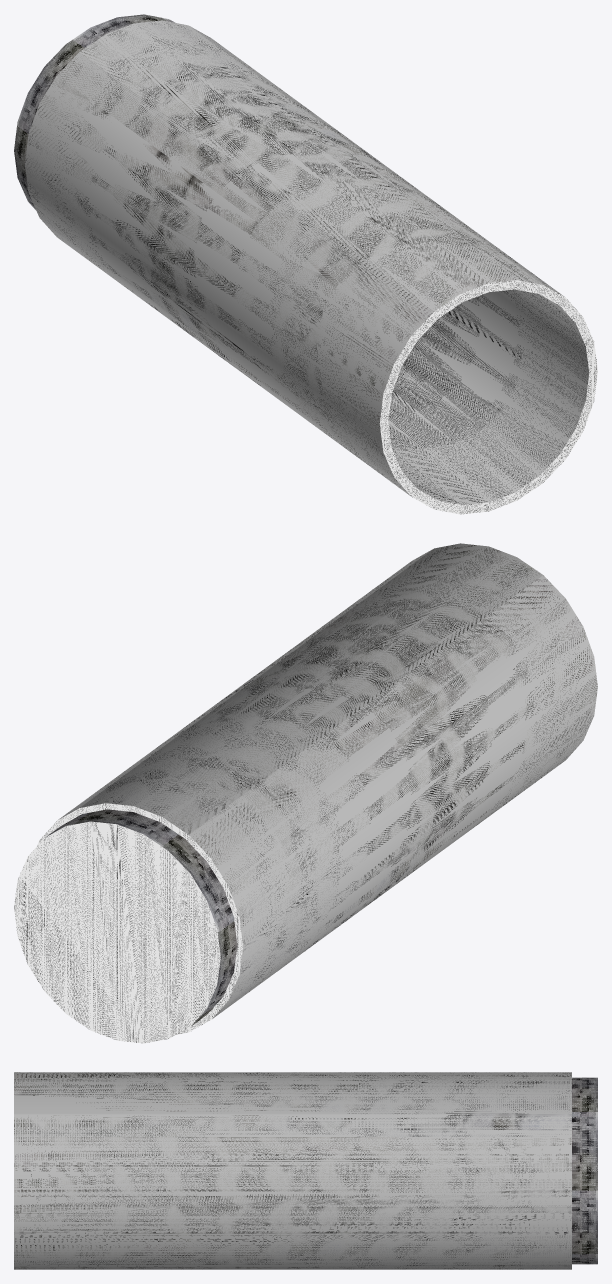
The model's file is model_align.obj.
3 renders of one model, top to bottom at view 1: azimuth 30°, elevation 25°; view 2: azimuth 150°, elevation 25°; view 3: azimuth 270°, elevation 25°, orthographic. The views are drawn at different scales.
Visible parts, largest first — view 1: mesh2_mesh2-geometry, mesh1_mesh1-geometry; view 2: mesh2_mesh2-geometry, mesh1_mesh1-geometry; view 3: mesh2_mesh2-geometry, mesh1_mesh1-geometry.
Boxes of the visible parts, x1=… form: mesh2_mesh2-geometry: x1=25, y1=20, x2=597, y2=514; mesh1_mesh1-geometry: x1=14, y1=14, x2=175, y2=209; mesh2_mesh2-geometry: x1=37, y1=543, x2=597, y2=1034; mesh1_mesh1-geometry: x1=14, y1=809, x2=237, y2=1043; mesh2_mesh2-geometry: x1=14, y1=1072, x2=571, y2=1269; mesh1_mesh1-geometry: x1=572, y1=1077, x2=597, y2=1264.
Size of the model in its own units: 0.0813 by 0.0813 by 0.2395.
Materials: 4 (2 with a texture image).
